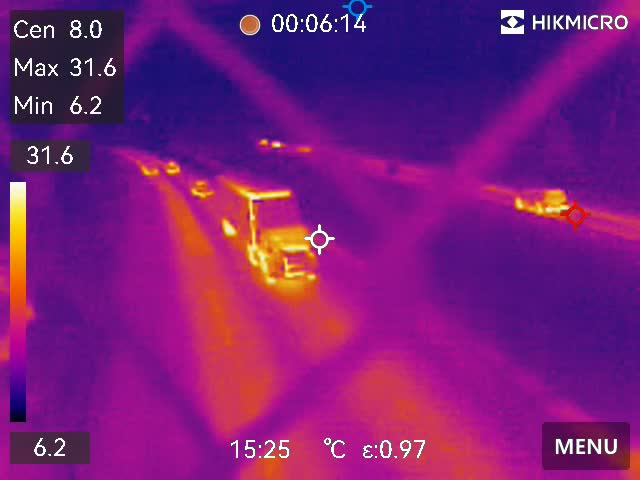heavyTruck: (211, 172, 317, 291)
